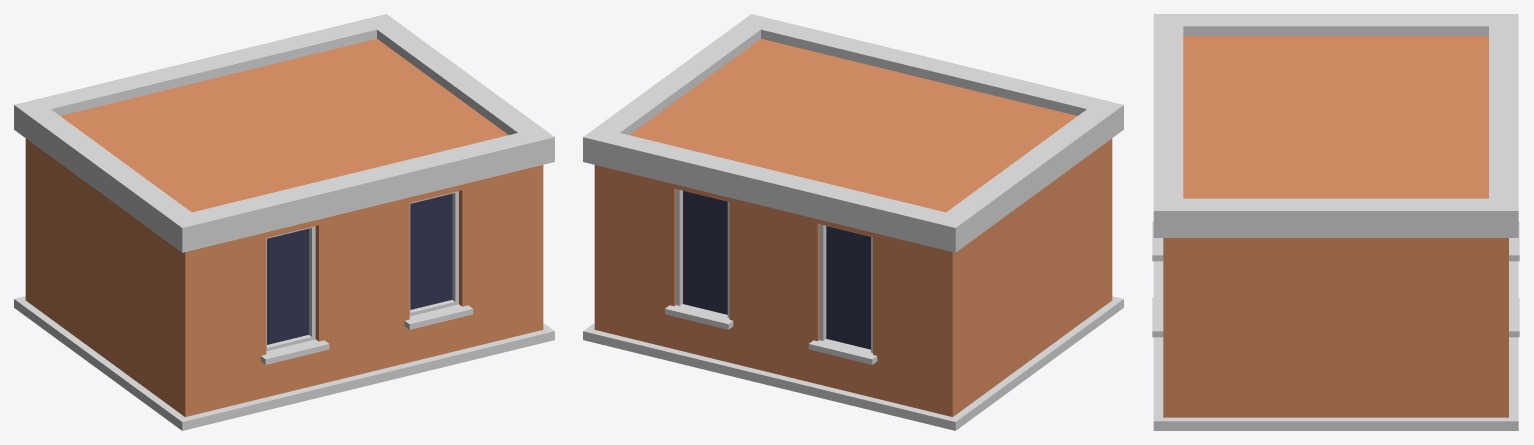
The model's file is Lowrise_Addon3.fbx.
3 views of the same model, side by side, from view 1: azimuth 30°, elevation 25°; view 2: azimuth 150°, elevation 25°; view 3: azimuth 270°, elevation 25° (orthographic). The views are drawn at different scales.
Visible parts, largest first — view 1: House_Addon3; view 2: House_Addon3; view 3: House_Addon3.
Part boxes in pixels (box(x1,y1,x2,y2)): House_Addon3: box(14, 14, 554, 430); House_Addon3: box(583, 14, 1123, 430); House_Addon3: box(1152, 14, 1519, 430).
Bounding box in the file's own units: 7.74 × 4.03 × 6.1.
